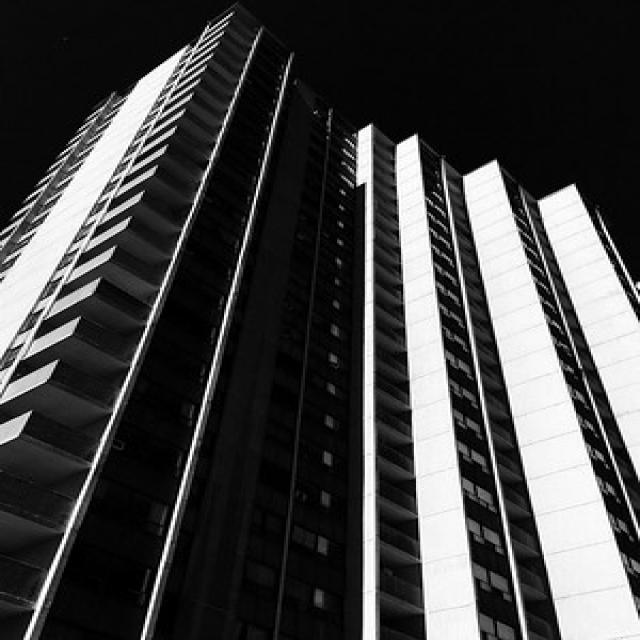Normal_building: (6, 9, 639, 640)
